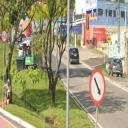speed_limit_40: (117, 40, 120, 48)
